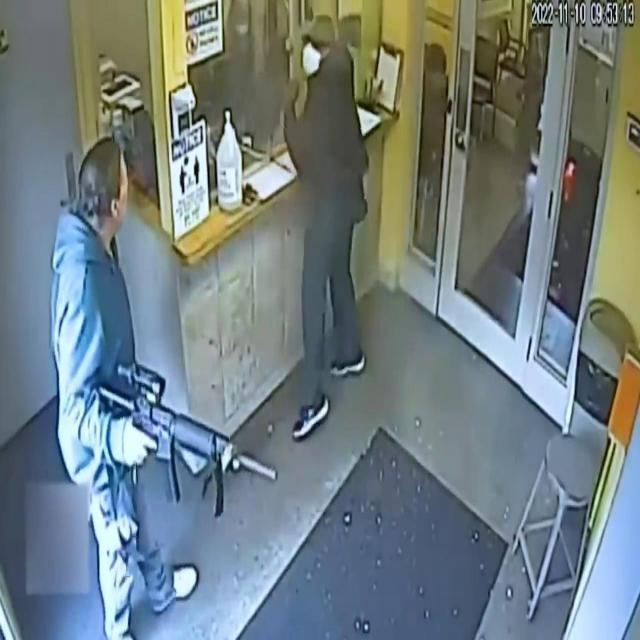pistol: (98, 364, 278, 509)
